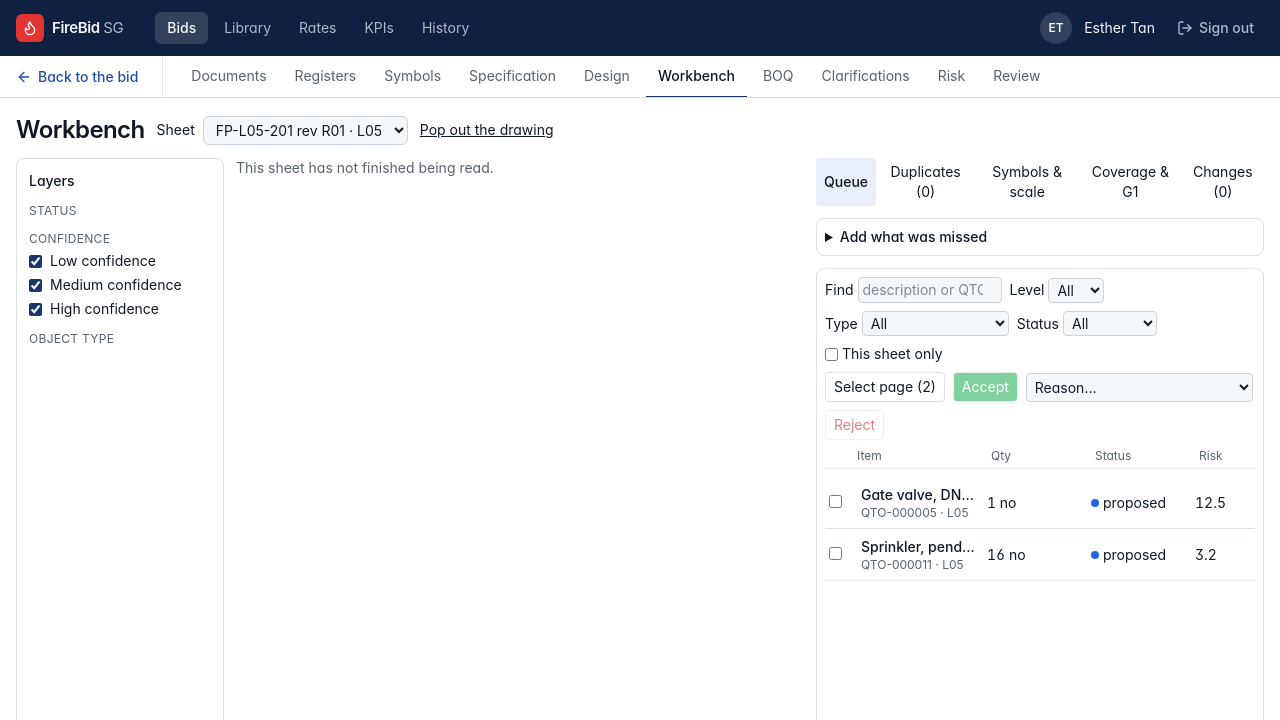
Test case: the workbench › offers the manual tools only where a view's scale can be trusted, and says why
The image size is (1280, 720).
Click the heading "Add what was missed": (913, 236) [840,228,987,245]
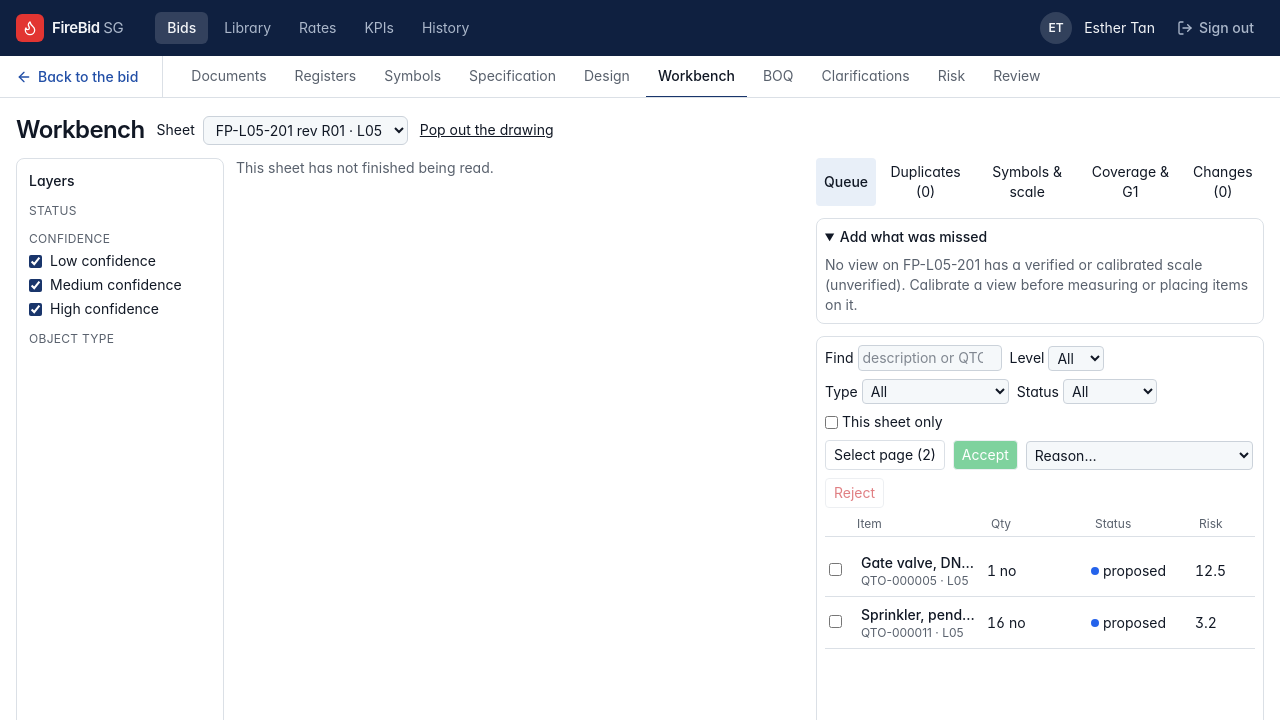
Expected: the text "No view on FP-L05-201 has a verified or calibrated scale (unverified)" is shown, [825,256,1248,313]
